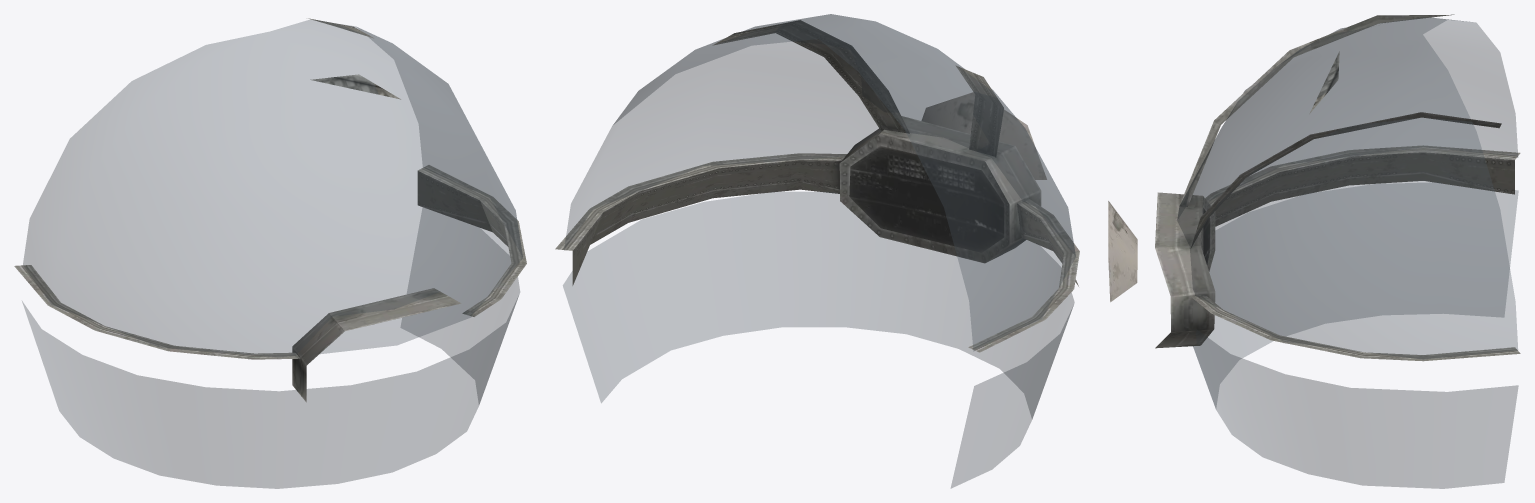
The model's file is laatcockpit.lod1.glb.
3 views of the same model, side by side, from view 1: azimuth 30°, elevation 25°; view 2: azimuth 150°, elevation 25°; view 3: azimuth 270°, elevation 25° (orthographic). The views are drawn at different scales.
Bounding box in the file's own units: 1.72 × 1.36 × 1.39.
2 materials, 1 textured.
